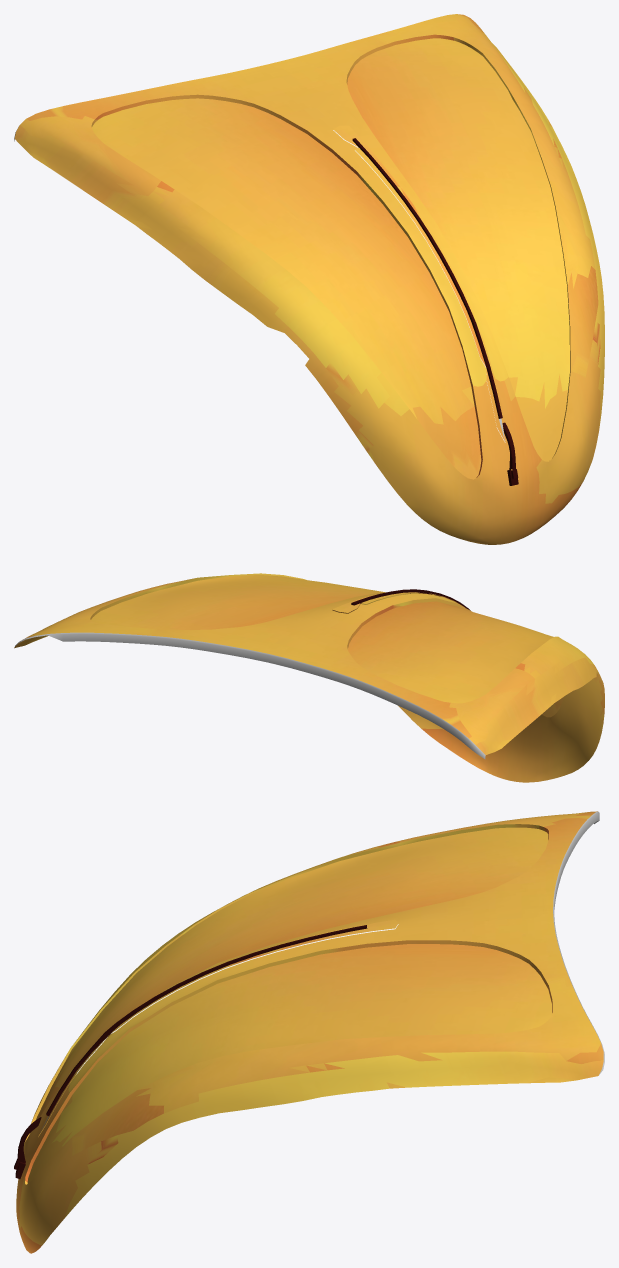
The model's file is cochecofre.obj.
3 views of the same model, one above another, from view 1: azimuth 30°, elevation 25°; view 2: azimuth 150°, elevation 25°; view 3: azimuth 270°, elevation 25° (orthographic). The views are drawn at different scales.
Parts seen in each view (by area): view 1: VWBeetle.cofre_Material.005, VWBeetle.cofre_crome; view 2: VWBeetle.cofre_Material.005, VWBeetle.cofre_, VWBeetle.cofre_crome; view 3: VWBeetle.cofre_Material.005, VWBeetle.cofre_crome, VWBeetle.cofre_.
Boxes of the visible parts, x1,y1,x2,y2 form: VWBeetle.cofre_Material.005: (14,14,604,544); VWBeetle.cofre_crome: (352,138,518,485); VWBeetle.cofre_Material.005: (14,573,604,782); VWBeetle.cofre_: (15,632,485,759); VWBeetle.cofre_crome: (351,589,470,610); VWBeetle.cofre_Material.005: (16,811,603,1253); VWBeetle.cofre_crome: (14,925,367,1178); VWBeetle.cofre_: (40,811,604,1132).
Bounding box in the file's own units: 6.75 × 4.17 × 6.75.
